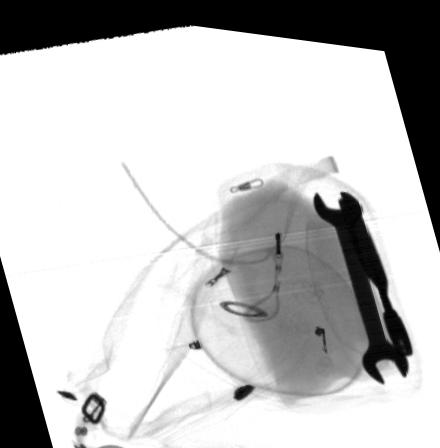Pliers: (337, 184, 416, 346)
Wrench: (310, 180, 410, 375)
